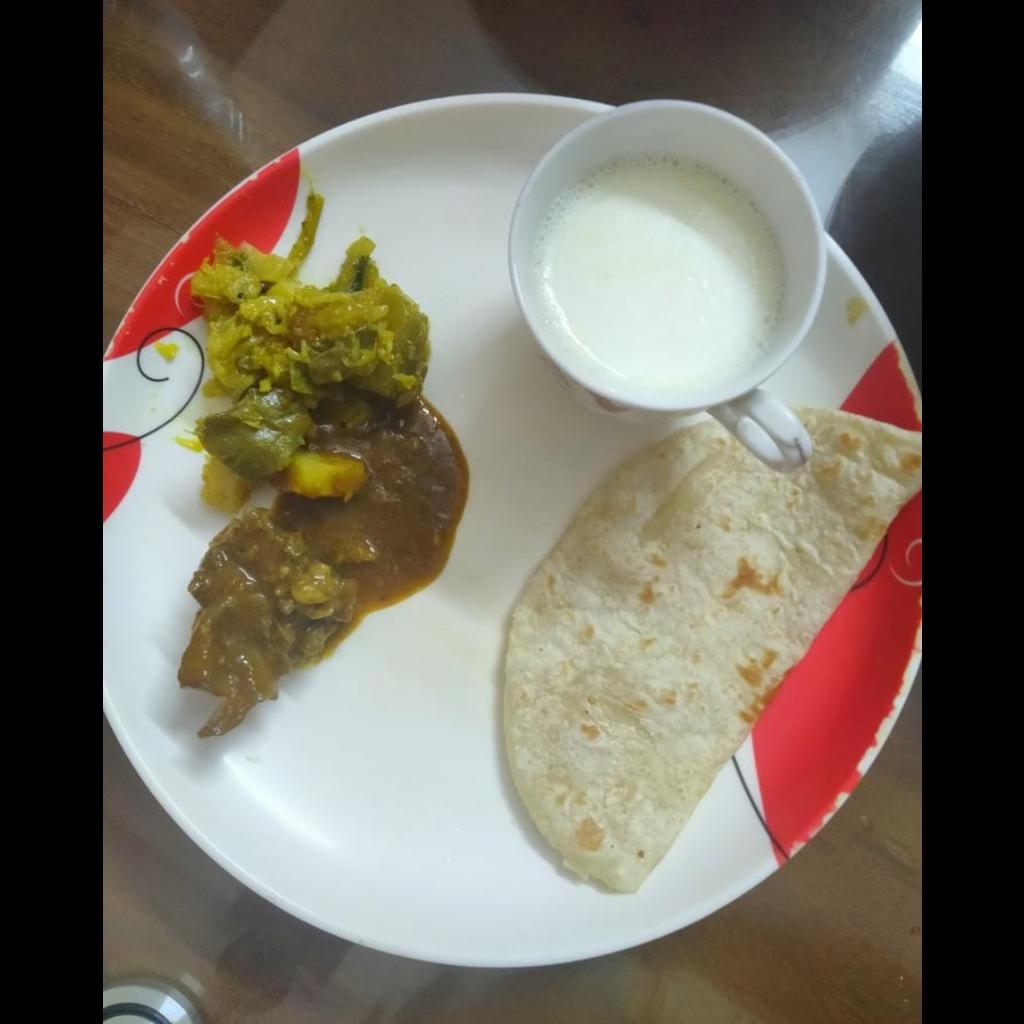beef: (179, 508, 350, 738)
milk: (552, 161, 778, 390)
ruti: (499, 404, 920, 892)
vaji: (193, 194, 422, 505)
